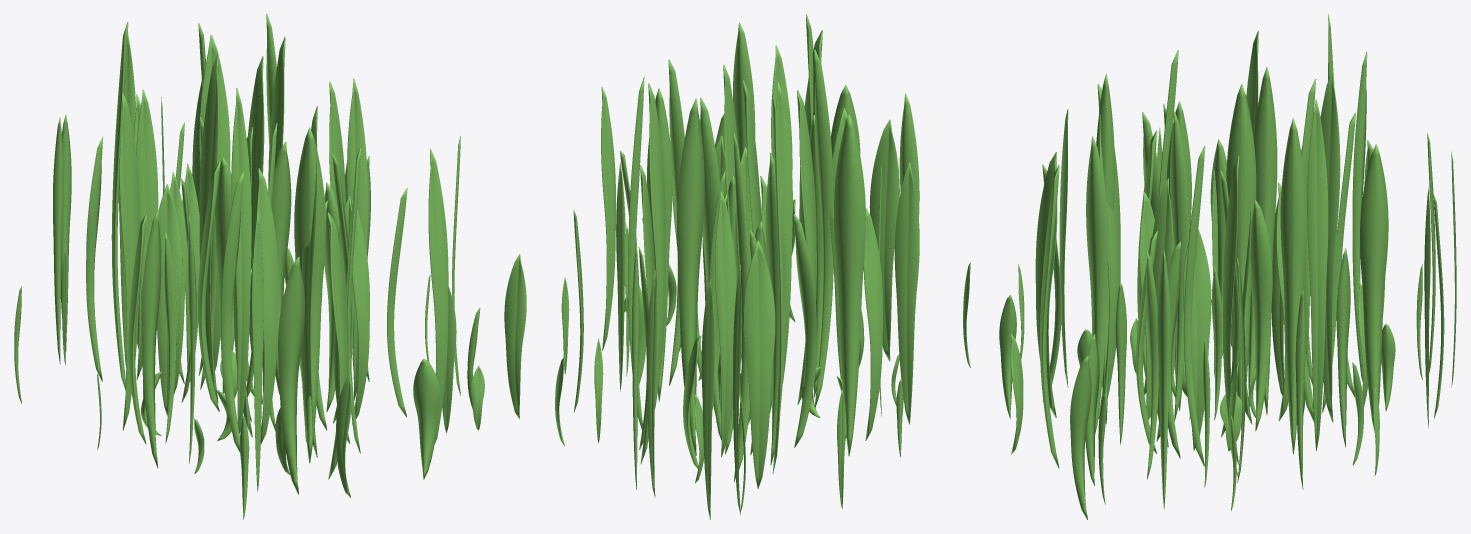
Rendered from Grass.fbx.
3 renders of one model, left to right at view 1: azimuth 30°, elevation 25°; view 2: azimuth 150°, elevation 25°; view 3: azimuth 270°, elevation 25°, orthographic.
Visible parts, largest first — view 1: GrassClump; view 2: GrassClump; view 3: GrassClump.
Boxes of the visible parts, left/top/right/bottom form: GrassClump: left=14, top=14, right=526, bottom=519; GrassClump: left=555, top=14, right=970, bottom=519; GrassClump: left=999, top=14, right=1456, bottom=519.
Size of the model in its own units: 133 by 131 by 145.
